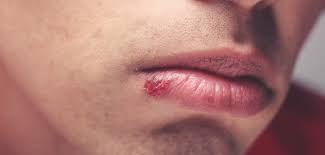herpes: (119, 51, 181, 109)
